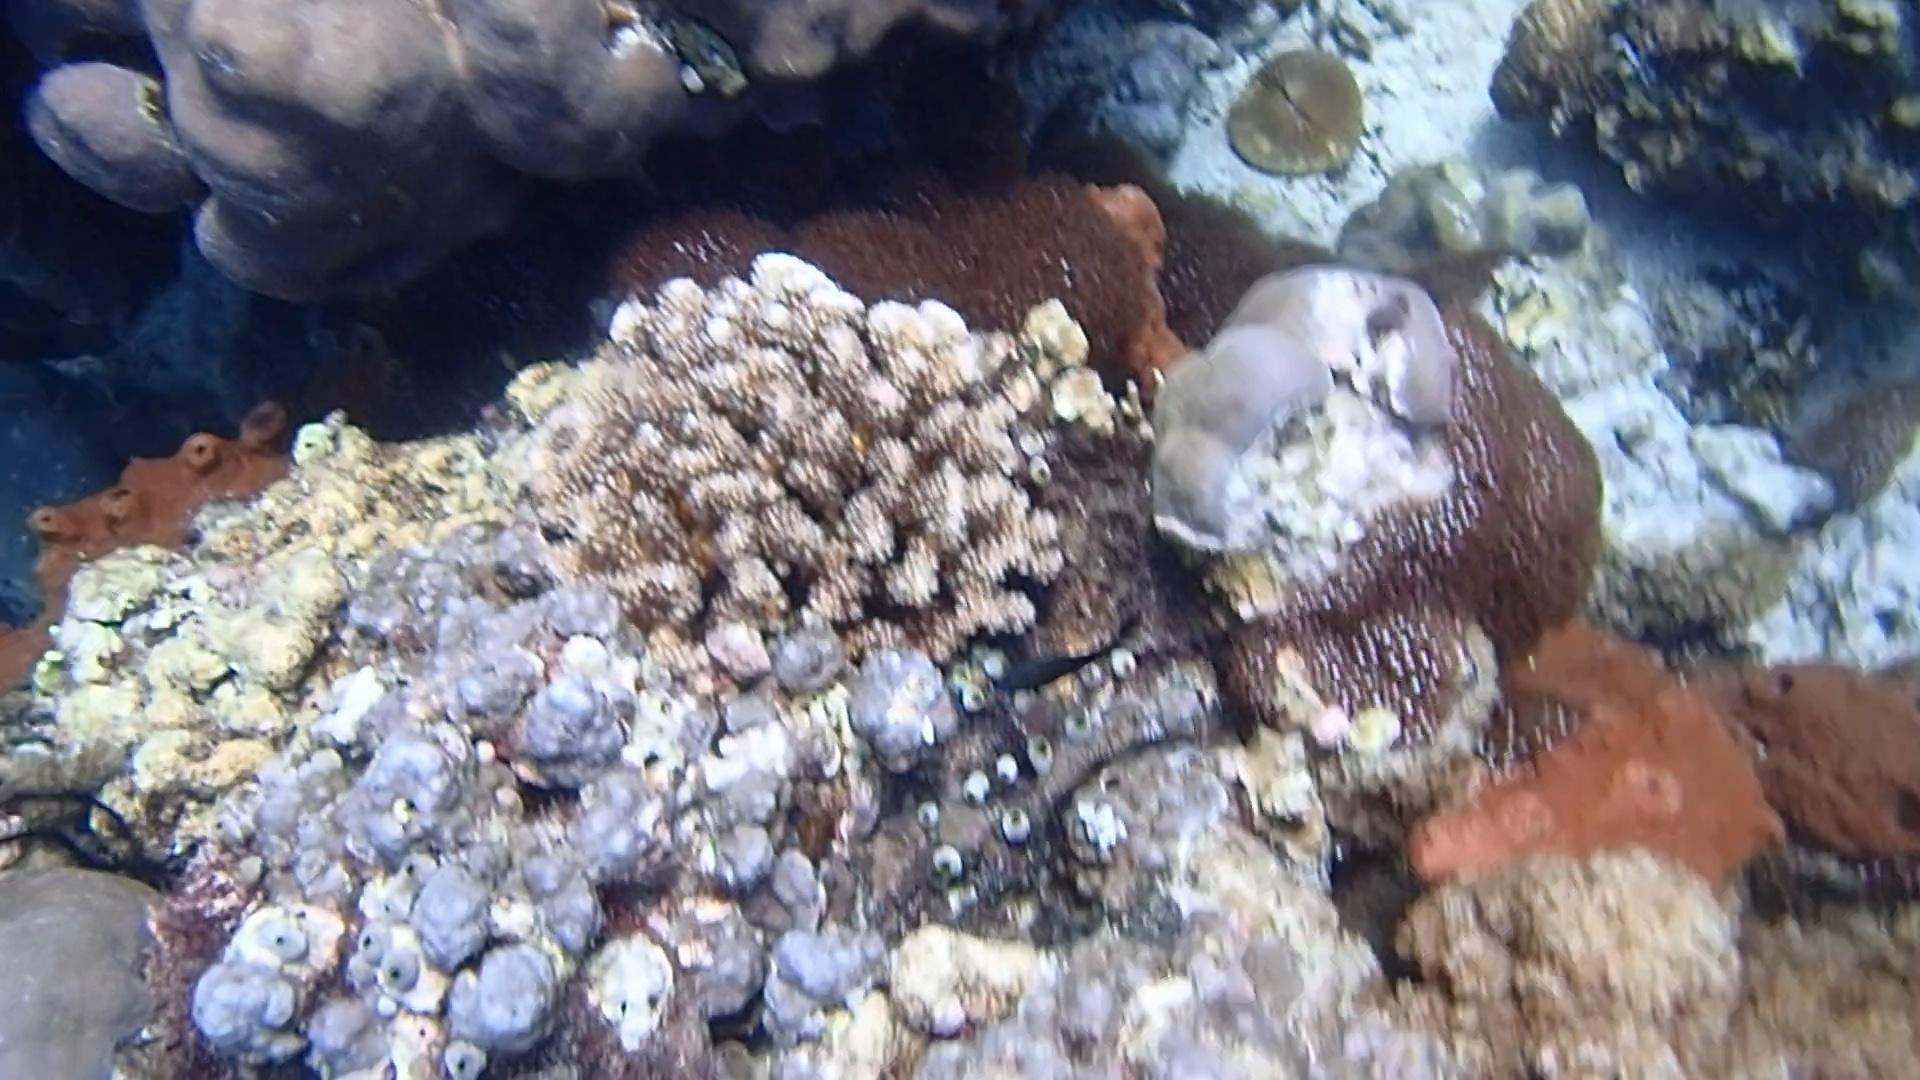Dark Fish: (984, 616, 1116, 708)
